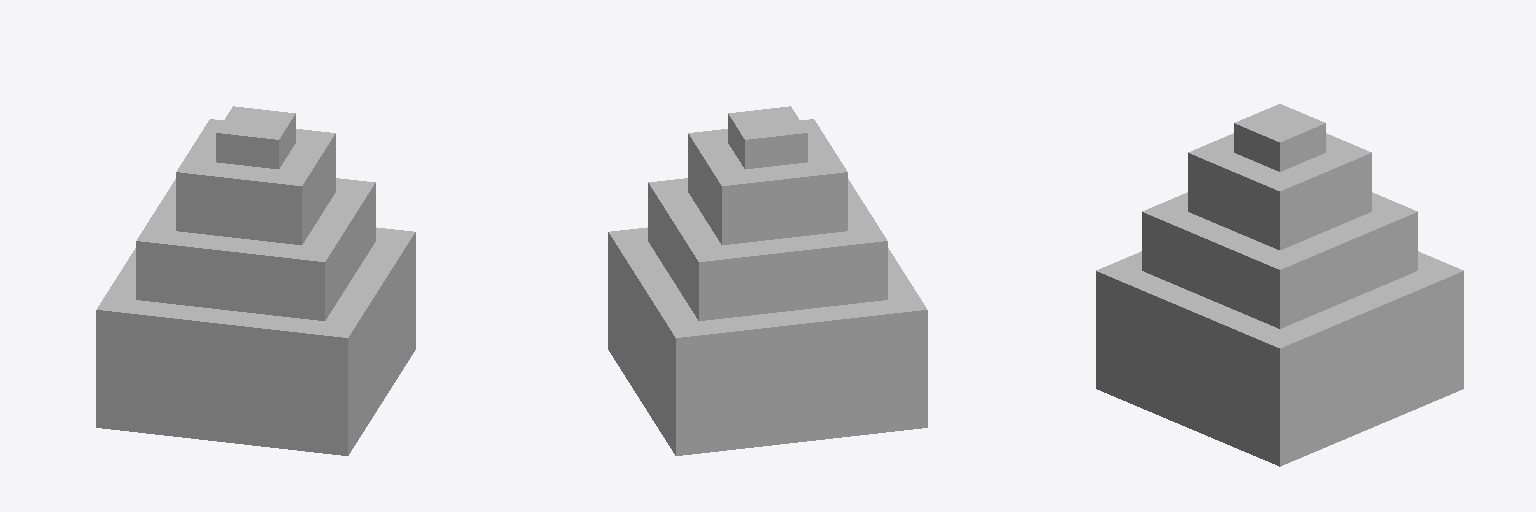
Rendered from missile_head_conventional.obj.
3 renders of one model, left to right at view 1: azimuth 30°, elevation 25°; view 2: azimuth 150°, elevation 25°; view 3: azimuth 270°, elevation 25°, orthographic.
Visible parts, largest first — view 1: group_4, group_3, group_5, group_2; view 2: group_4, group_3, group_5, group_2; view 3: group_4, group_3, group_5, group_2.
Part boxes in pixels (x1,y1,x2,y2): group_4: (96,227,415,455); group_3: (136,178,375,320); group_5: (176,119,335,244); group_2: (216,106,295,168); group_4: (608,227,927,455); group_3: (648,178,887,320); group_5: (688,119,847,244); group_2: (728,106,807,168); group_4: (1096,251,1463,466); group_3: (1142,192,1417,328); group_5: (1188,133,1371,249); group_2: (1234,104,1325,171).
Size of the model in its own units: 71.27 by 56.69 by 71.27.